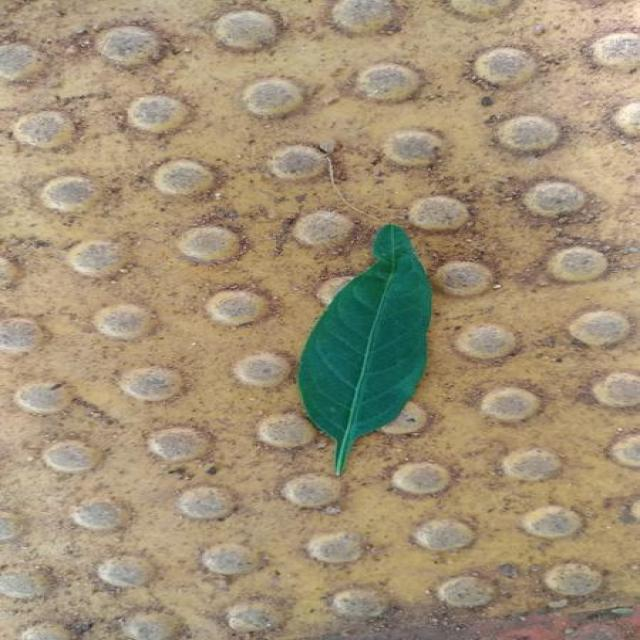balloon_Vine: (298, 224, 432, 476)
